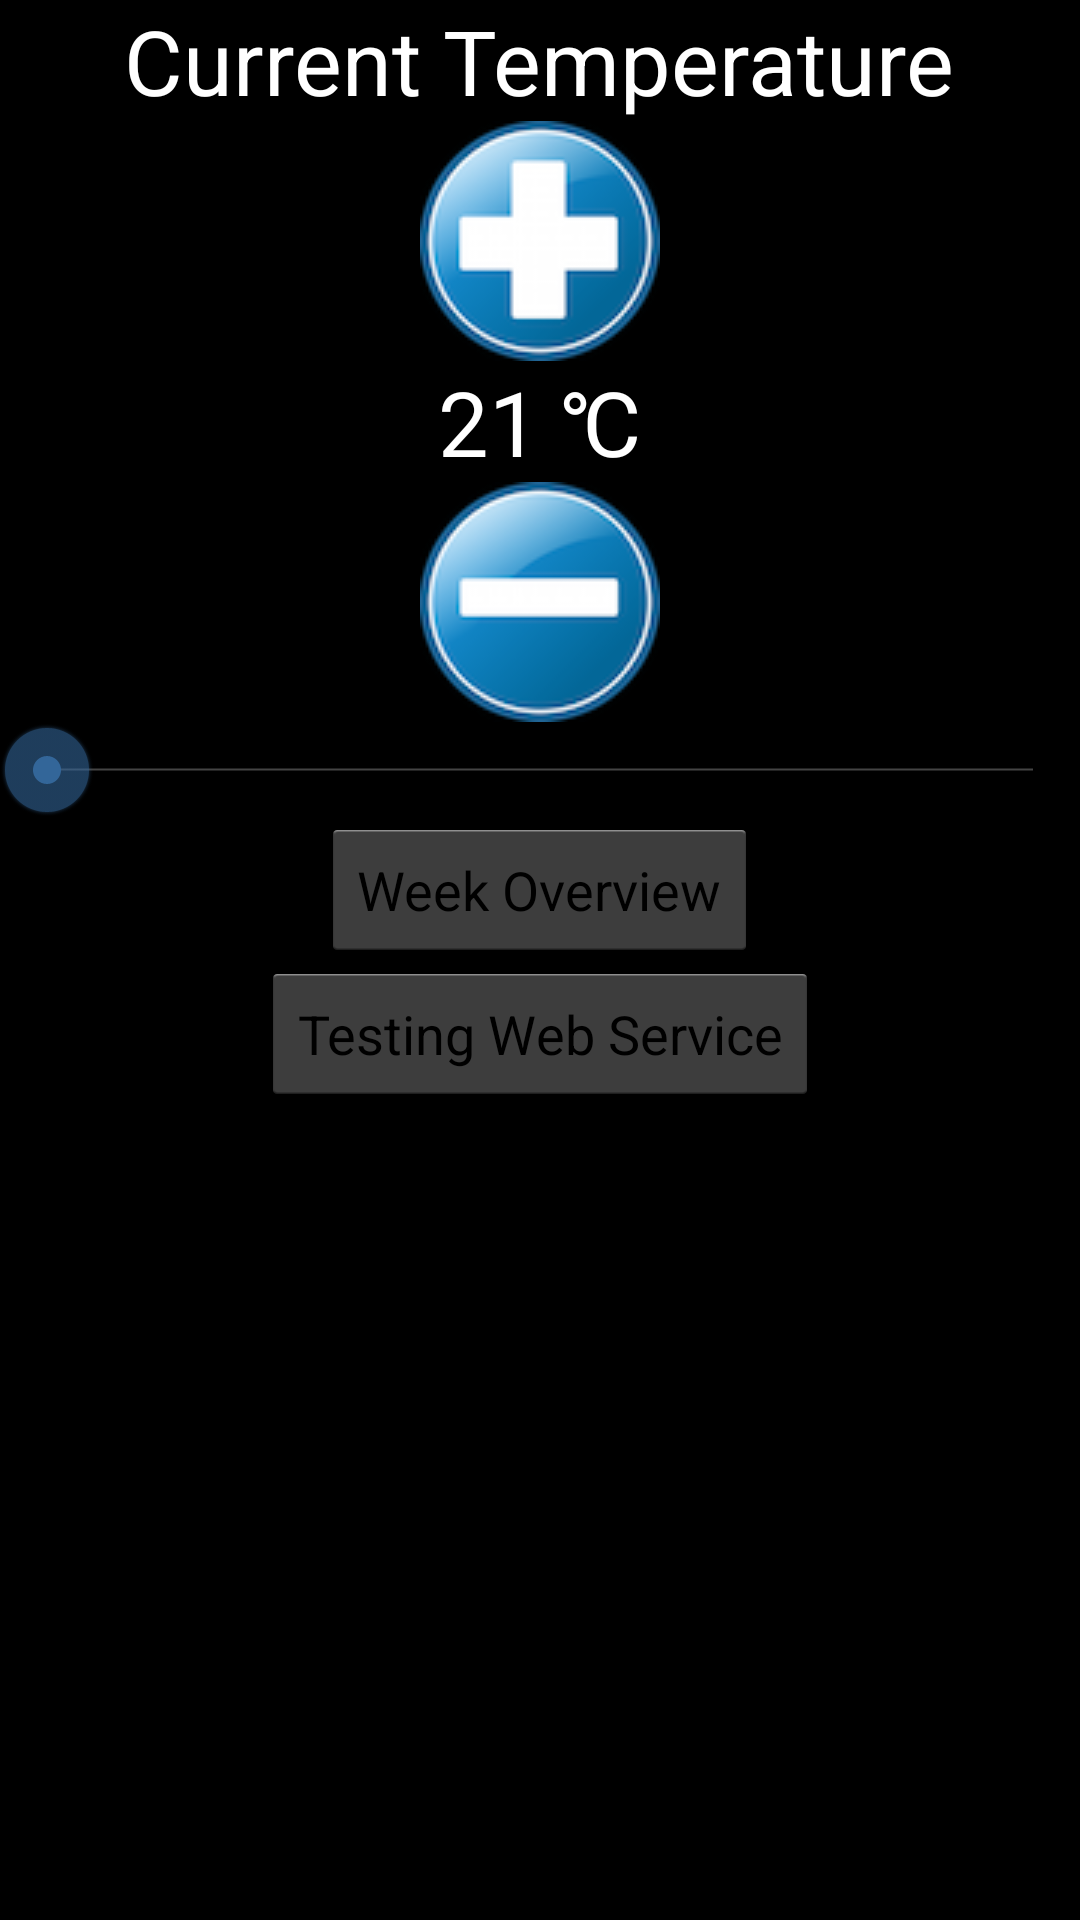

Icon click points for this 1080 × 1920 phone screenshot, format (x,y):
add: (540,241)
minus: (540,602)
